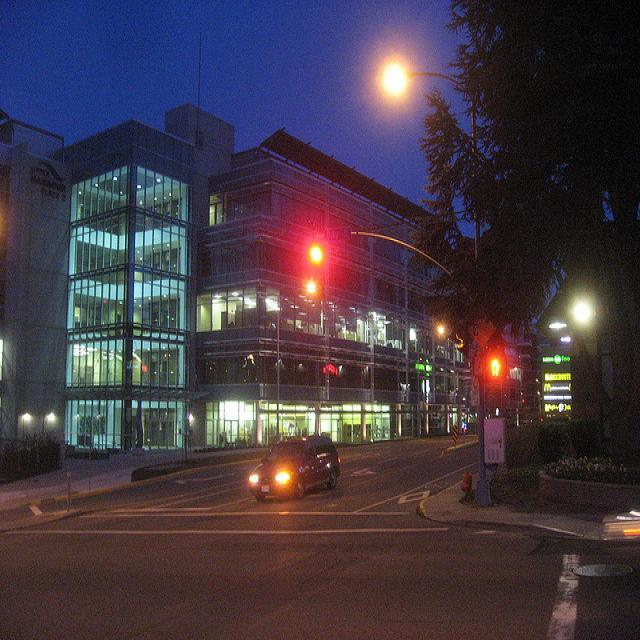Vehicle: (248, 436, 342, 500)
